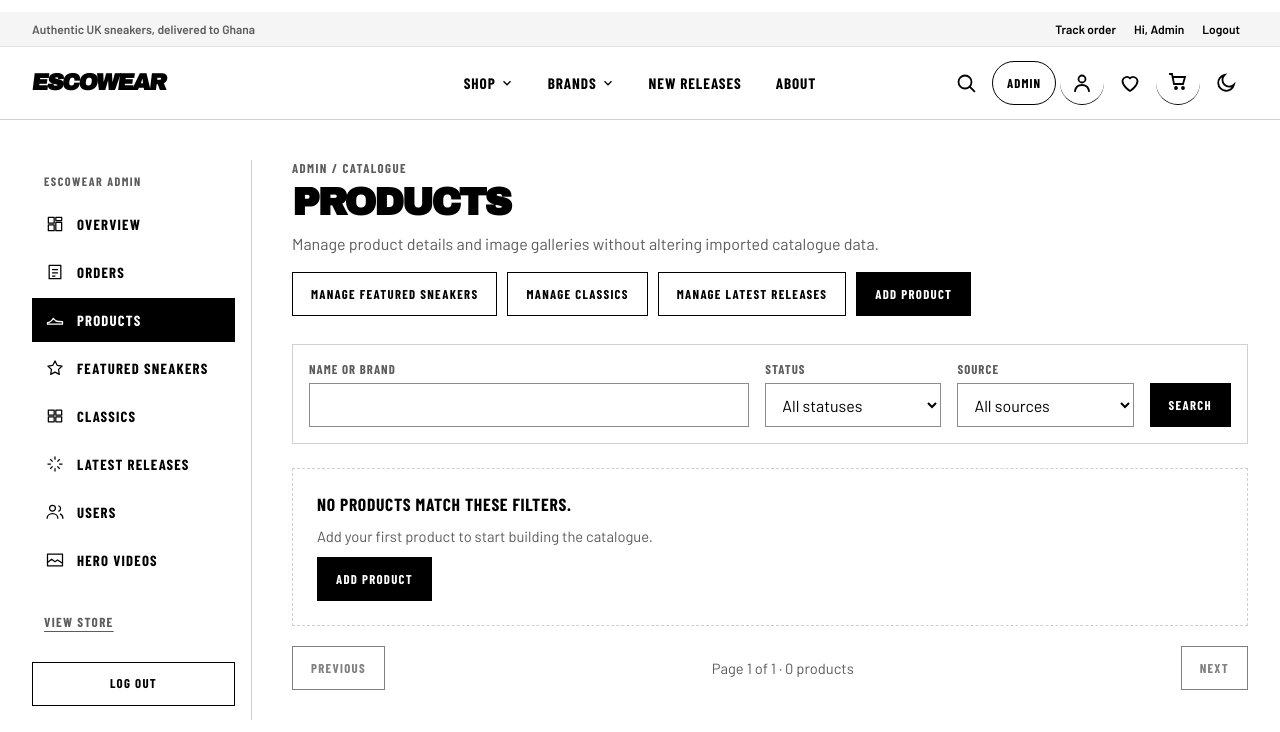
Test: the Products page and admin sidebar link to Classics management
Click the link "Manage Classics".
click(578, 294)  # box left=507, top=272, right=648, bottom=316
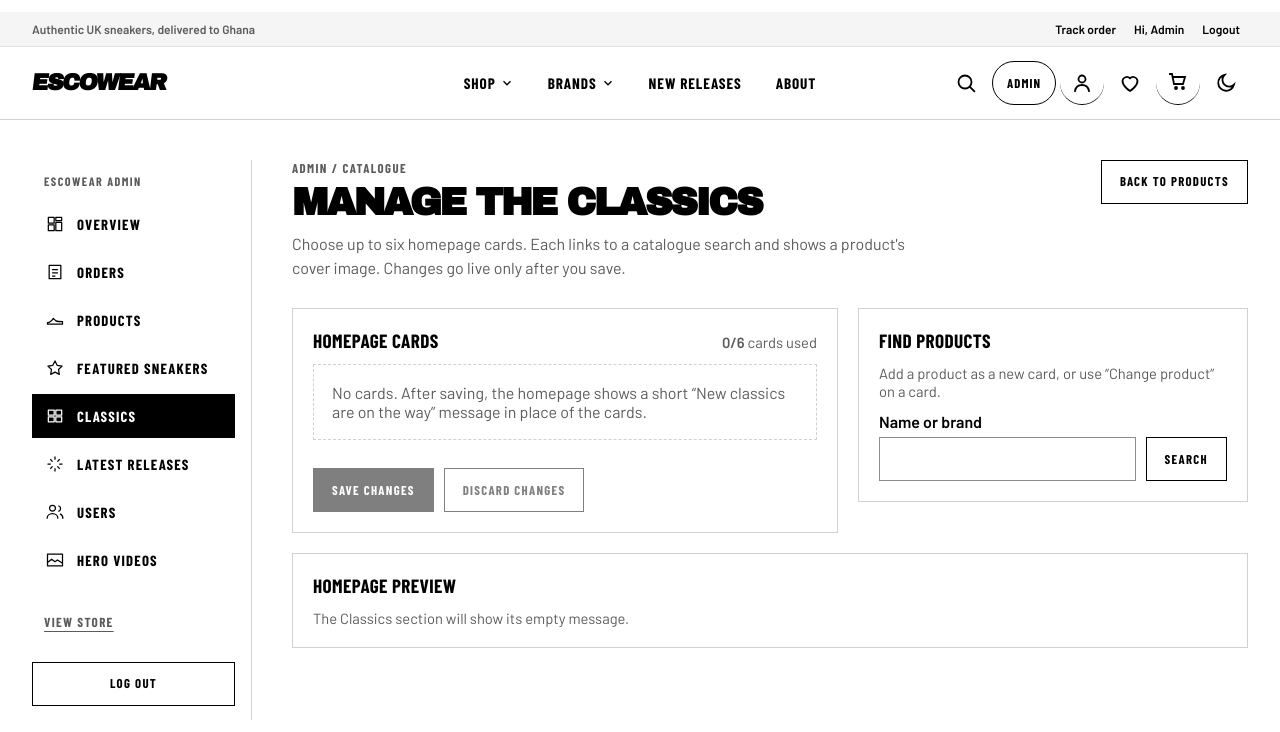
Result: the heading "Manage The Classics" is shown at left=292, top=181, right=761, bottom=223
Result: the text "No cards. After saving" is shown at left=332, top=384, right=785, bottom=422
